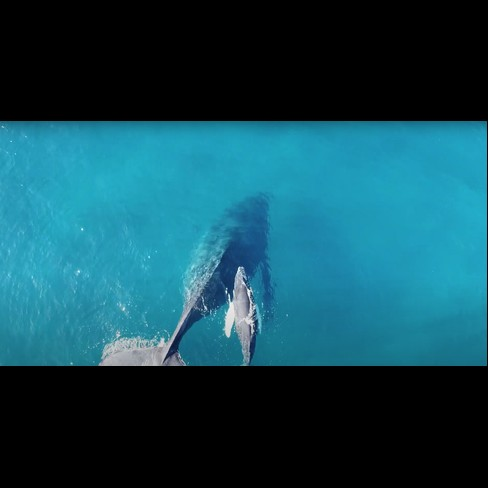hump: (94, 185, 287, 367), (219, 262, 270, 366)
